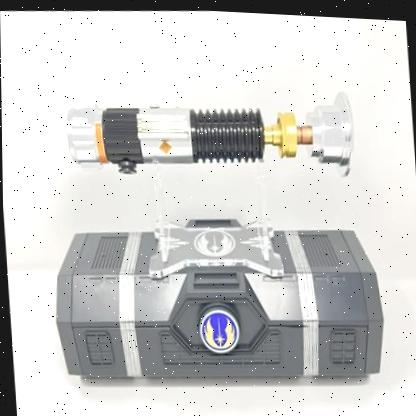lightsaber: (60, 70, 364, 196)
